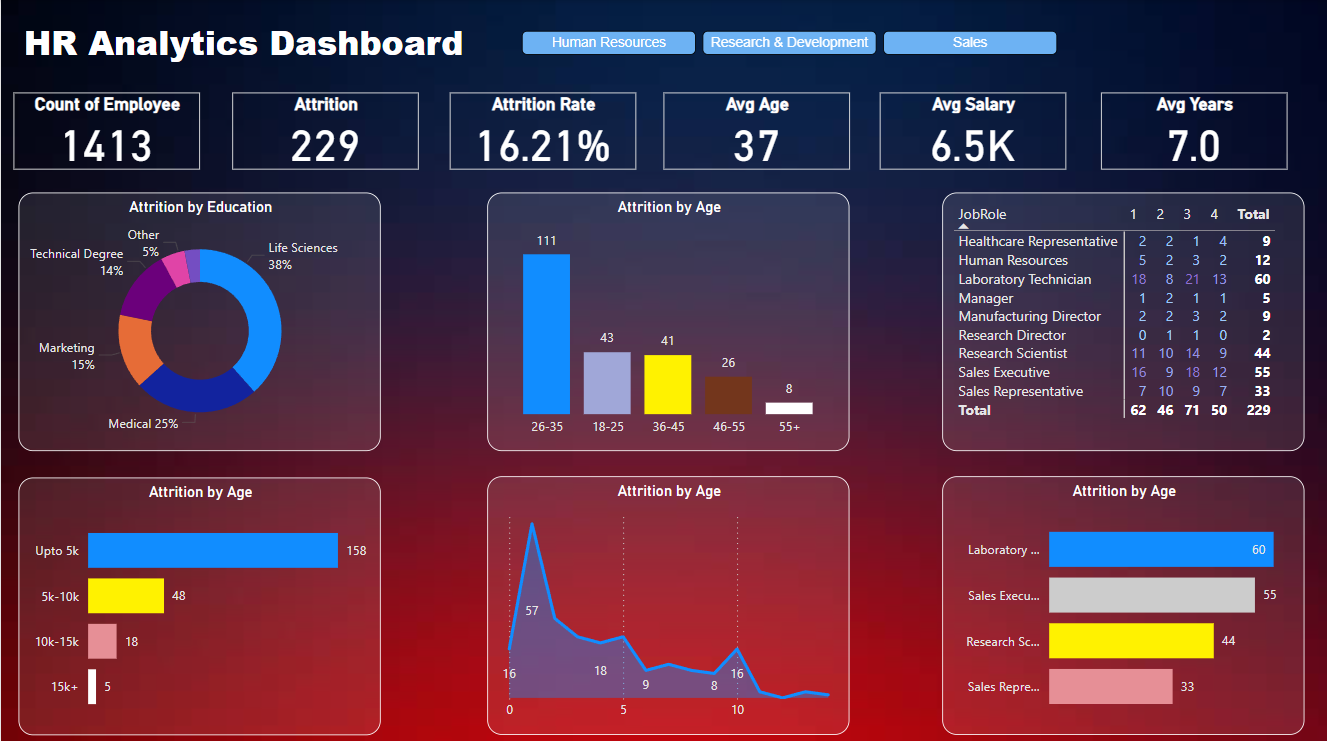

The page's visual inventory and layout, read from the dashboard file:
{"tool":"powerbi","page":{"name":"Page 1","canvas":[1280,720],"ordinal":0},"visuals":[{"type":"card","title":"Count of Employee","fields":{"Values":["CountNonNull(HR_Analytics.EmpID)"]},"box":[12.1,89.5,179.8,74.8],"z":0},{"type":"card","title":"Avg Age","fields":{"Values":["Avg(HR_Analytics.Age)"]},"box":[639.4,89.5,179.8,74.8],"z":1000},{"type":"card","title":"Attrition Rate","fields":{"Values":["HR_Analytics.AttritationRate"]},"box":[433.1,89.5,179.8,74.8],"z":2000},{"type":"card","title":"Attrition","fields":{"Values":["Sum(HR_Analytics.AttritionCount)"]},"box":[223.2,89.5,179.8,74.8],"z":3000},{"type":"card","title":"Avg Years","fields":{"Values":["Avg(HR_Analytics.YearsAtCompany)"]},"box":[1061.7,89.5,179.8,74.8],"z":4000},{"type":"card","title":"Avg Salary","fields":{"Values":["Avg(HR_Analytics.MonthlyIncome)"]},"box":[848.1,89.5,179.8,74.8],"z":5000},{"type":"donutChart","title":"Attrition by Education","fields":{"Y":["Sum(HR_Analytics.AttritionCount)"],"Category":["HR_Analytics.EducationField"]},"box":[16.9,185.8,349.9,249.7],"z":6000},{"type":"columnChart","title":"Attrition by Age","fields":{"Y":["Sum(HR_Analytics.AttritionCount)"],"Category":["HR_Analytics.AgeGroup"]},"box":[469.3,185.8,349.9,249.7],"z":7000},{"type":"pivotTable","fields":{"Rows":["HR_Analytics.JobRole"],"Columns":["HR_Analytics.JobSatisfaction"],"Values":["Sum(HR_Analytics.AttritionCount)"]},"box":[908.4,185.8,349.9,249.7],"z":8000},{"type":"barChart","title":"Attrition by Age","fields":{"Y":["Sum(HR_Analytics.AttritionCount)"],"Category":["HR_Analytics.SalarySlab"]},"box":[16.9,460.9,349.9,248.5],"z":9000},{"type":"barChart","title":"Attrition by Age","fields":{"Y":["Sum(HR_Analytics.AttritionCount)"],"Category":["HR_Analytics.JobRole"]},"box":[908.4,459.7,349.9,249.7],"z":10000},{"type":"stackedAreaChart","title":"Attrition by Age","fields":{"Category":["HR_Analytics.YearsAtCompany"],"Y":["Sum(HR_Analytics.AttritionCount)"]},"box":[469.3,459.7,349.9,249.7],"z":10001},{"type":"textbox","box":[17.1,12.8,446.1,64.1],"z":10003},{"type":"ChicletSlicer1448559807354","fields":{"Category":["HR_Analytics.Department"]},"box":[494.6,21.7,533.2,44.6],"z":10004}]}

Visuals, with their boxes in screenshot pixels (x1, y1, x2, y2), scaled from the page's 1280x720 canvas onto the 1327x741 screenshot:
"Count of Employee" card: l=13, t=92, r=199, b=169
"Avg Age" card: l=663, t=92, r=849, b=169
"Attrition Rate" card: l=449, t=92, r=635, b=169
"Attrition" card: l=231, t=92, r=418, b=169
"Avg Years" card: l=1101, t=92, r=1287, b=169
"Avg Salary" card: l=879, t=92, r=1066, b=169
"Attrition by Education" donutChart: l=18, t=191, r=380, b=448
"Attrition by Age" columnChart: l=487, t=191, r=849, b=448
pivotTable - HR_Analytics.JobRole x HR_Analytics.JobSatisfaction: l=942, t=191, r=1305, b=448
"Attrition by Age" barChart: l=18, t=474, r=380, b=730
"Attrition by Age" barChart: l=942, t=473, r=1305, b=730
"Attrition by Age" stackedAreaChart: l=487, t=473, r=849, b=730
textbox: l=18, t=13, r=480, b=79
ChicletSlicer1448559807354 - HR_Analytics.Department: l=513, t=22, r=1066, b=68
